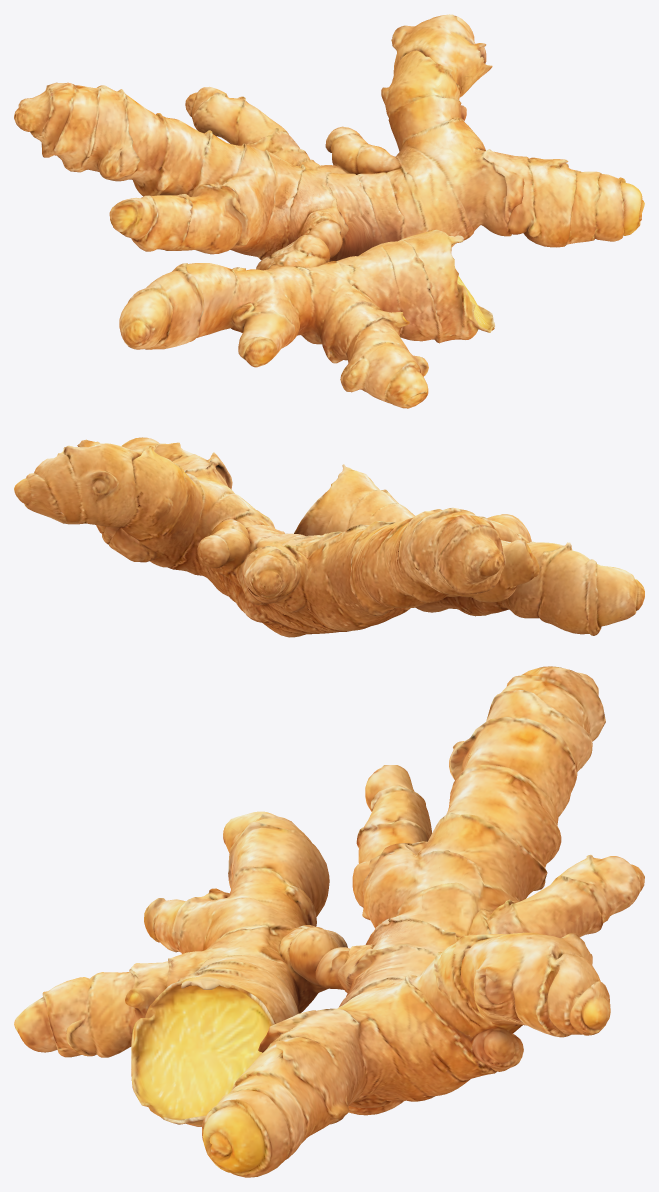
Rendered from lod_basic_shaded.fbx.
3 renders of one model, top to bottom at view 1: azimuth 30°, elevation 25°; view 2: azimuth 150°, elevation 25°; view 3: azimuth 270°, elevation 25°, orthographic. The views are drawn at different scales.
Parts seen in each view (by area): view 1: model_LOD0; view 2: model_LOD0; view 3: model_LOD0.
Part boxes in pixels (x1,y1,x2,y2): model_LOD0: (14, 14, 644, 408); model_LOD0: (14, 437, 644, 637); model_LOD0: (14, 666, 644, 1177).
Size of what is drawn, in the model's own units: 190 by 78.56 by 153.
